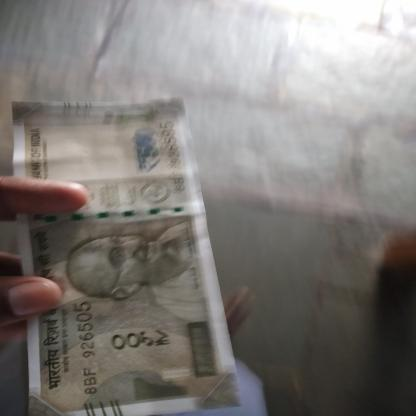New500Front: (15, 101, 218, 416)
